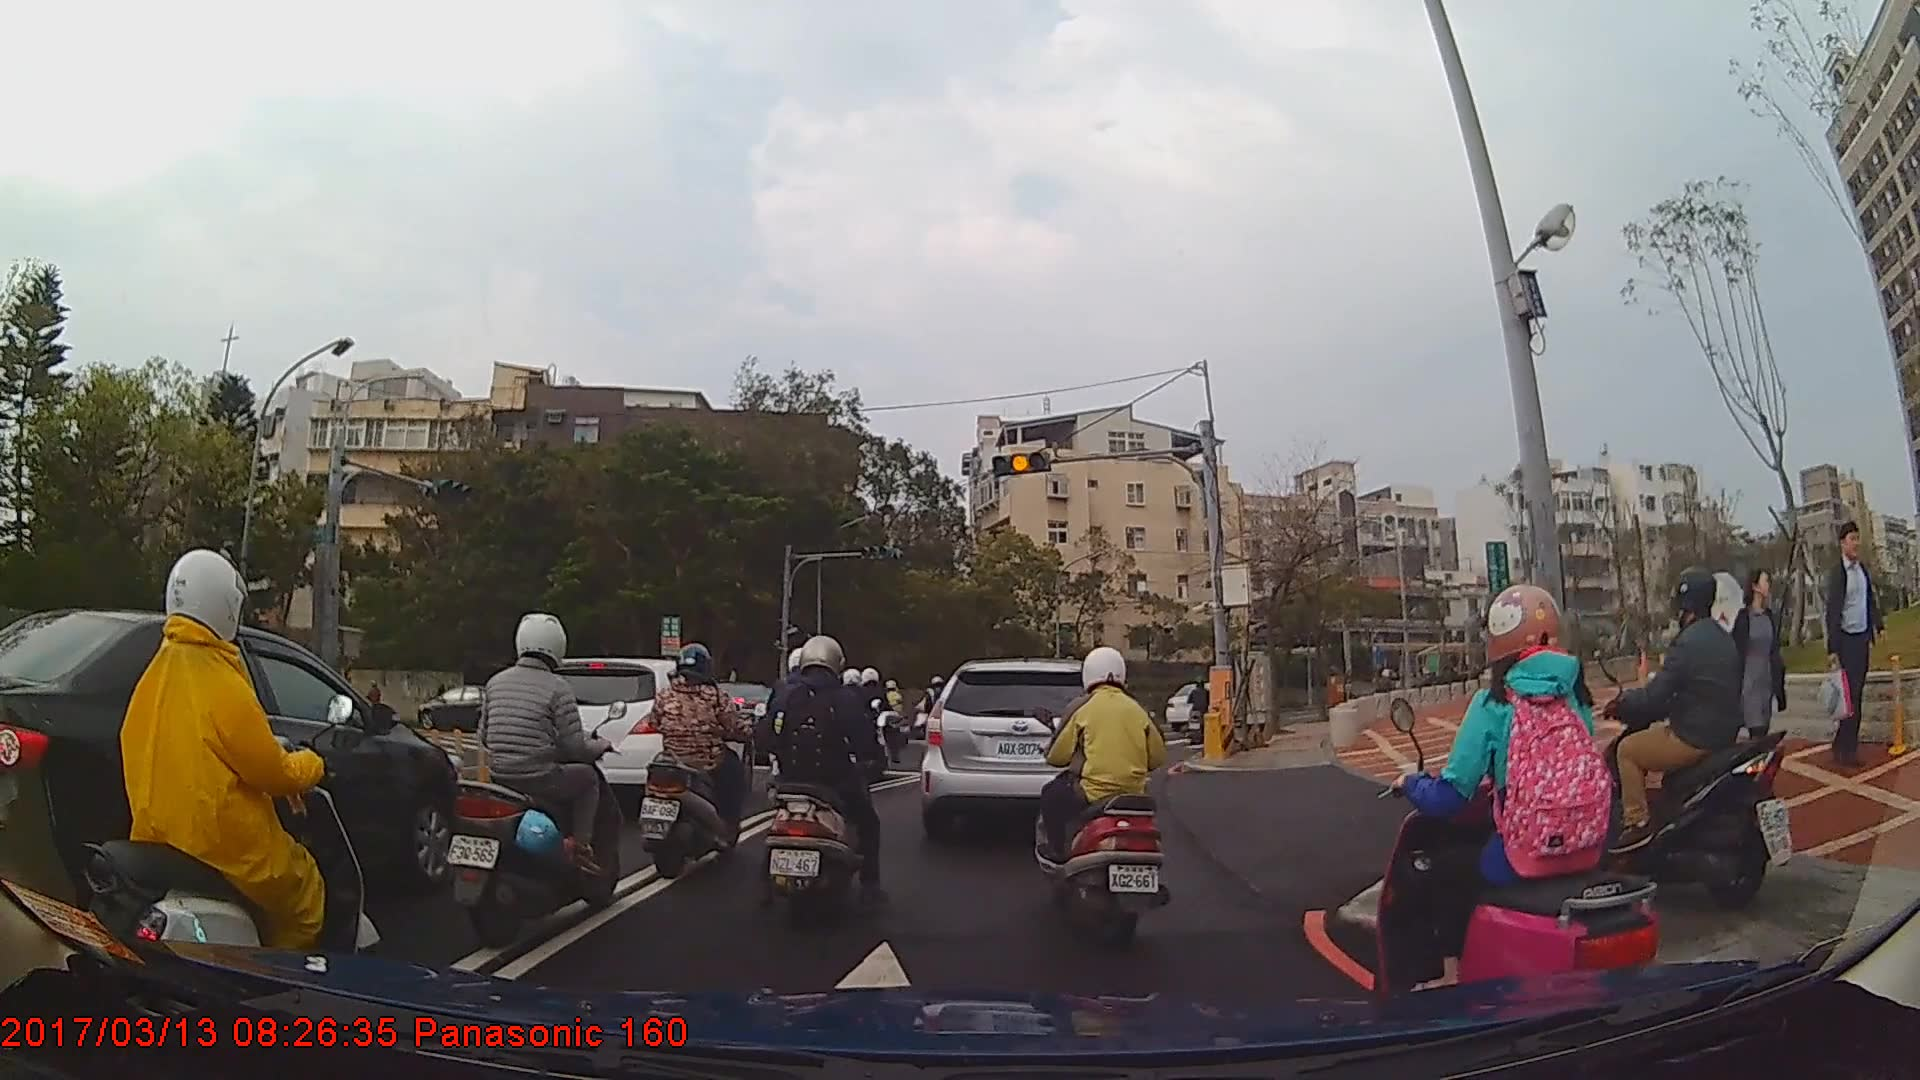pedestrian: (1820, 524, 1883, 772), (1725, 568, 1790, 801)
rider: (79, 544, 384, 1011), (1370, 586, 1658, 1027), (1584, 572, 1772, 907), (448, 607, 619, 952), (1030, 646, 1172, 947), (762, 635, 893, 932), (634, 642, 761, 878), (879, 678, 913, 743), (1187, 677, 1218, 743)
vehicle: (0, 606, 463, 934), (914, 659, 1127, 838), (519, 657, 755, 817), (416, 684, 519, 732)
